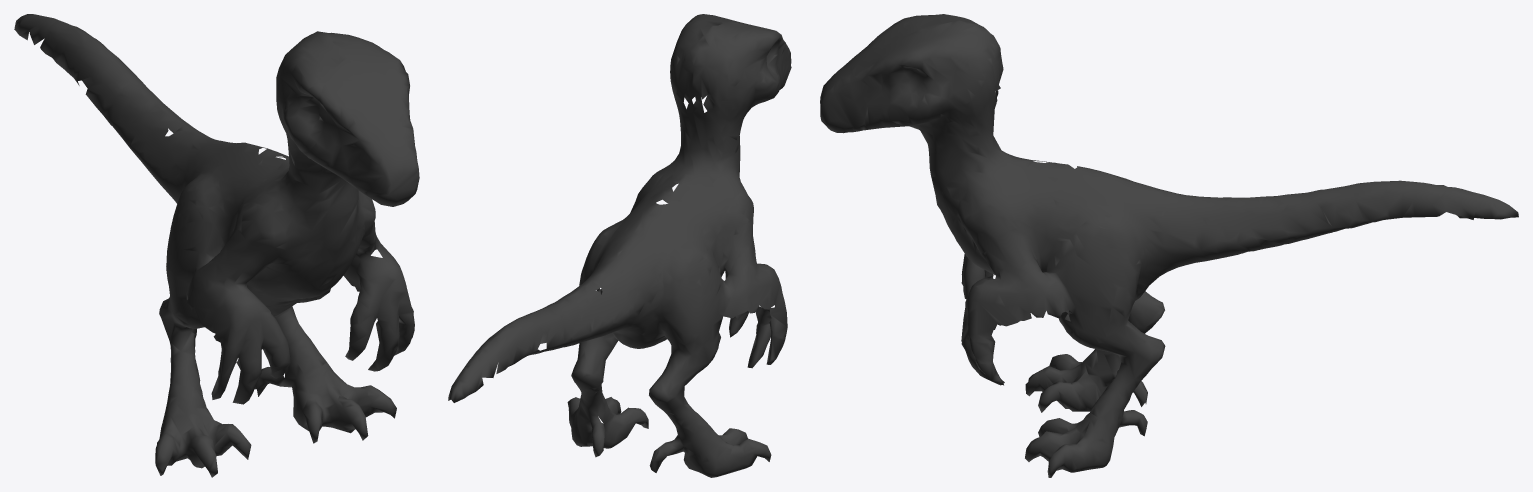
The model's file is velociraptor.glb.
3 renders of one model, left to right at view 1: azimuth 30°, elevation 25°; view 2: azimuth 150°, elevation 25°; view 3: azimuth 270°, elevation 25°, orthographic. The views are drawn at different scales.
Parts seen in each view (by area): view 1: geometry_0; view 2: geometry_0; view 3: geometry_0.
Boxes of the visible parts, x1,y1,x2,y2 form: geometry_0: (14, 14, 419, 477); geometry_0: (448, 14, 791, 477); geometry_0: (820, 14, 1518, 477).
Bounding box in the file's own units: 0.3589 × 0.6505 × 1.
1 material, 1 textured.
